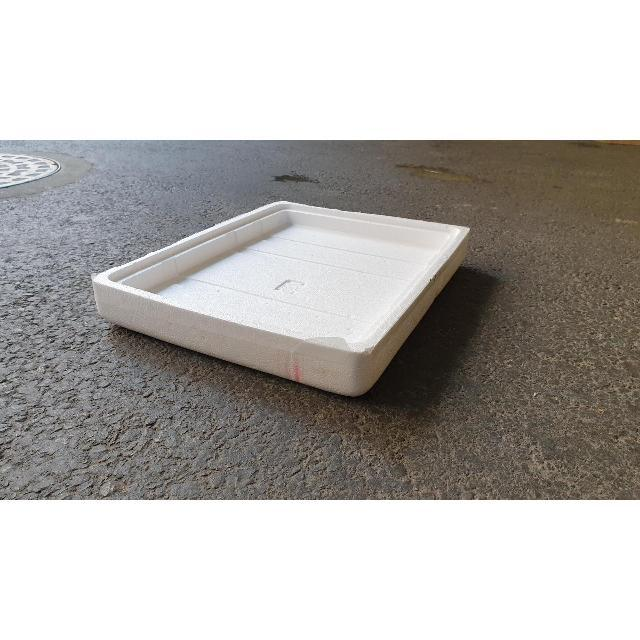Plastico descartable: (91, 202, 470, 399)
